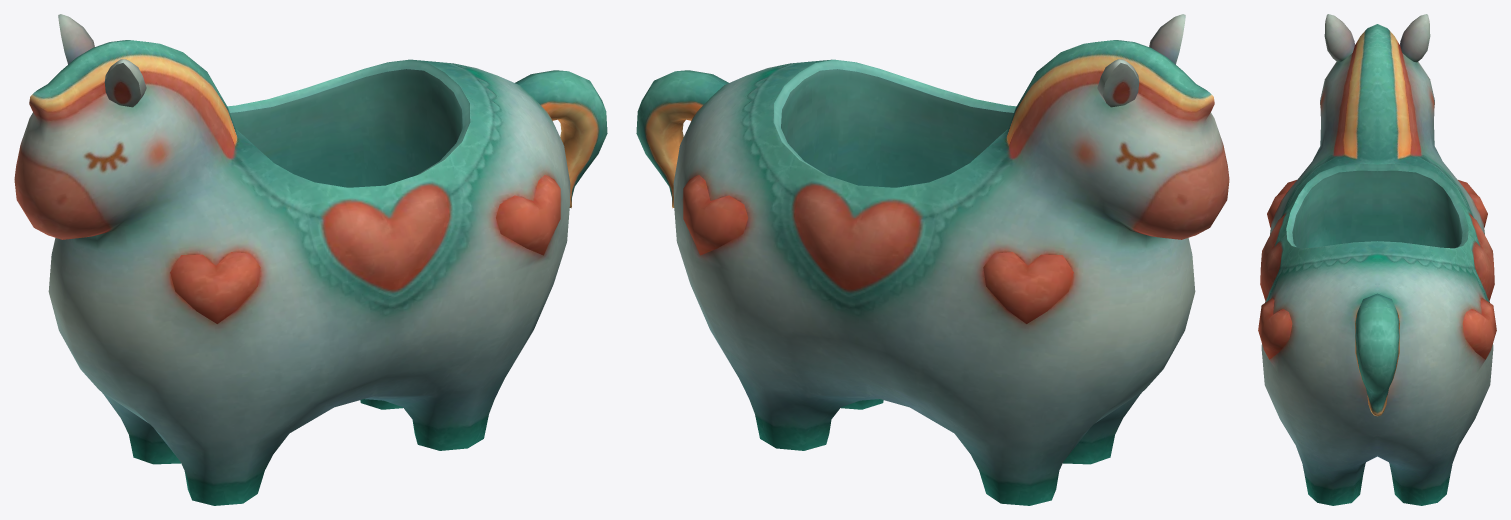
The model's file is furniture-20636.glb.
3 renders of one model, left to right at view 1: azimuth 30°, elevation 25°; view 2: azimuth 150°, elevation 25°; view 3: azimuth 270°, elevation 25°, orthographic. The views are drawn at different scales.
Size of the model in its own units: 1.28 by 0.9707 by 0.5909.
1 material, 1 textured.
